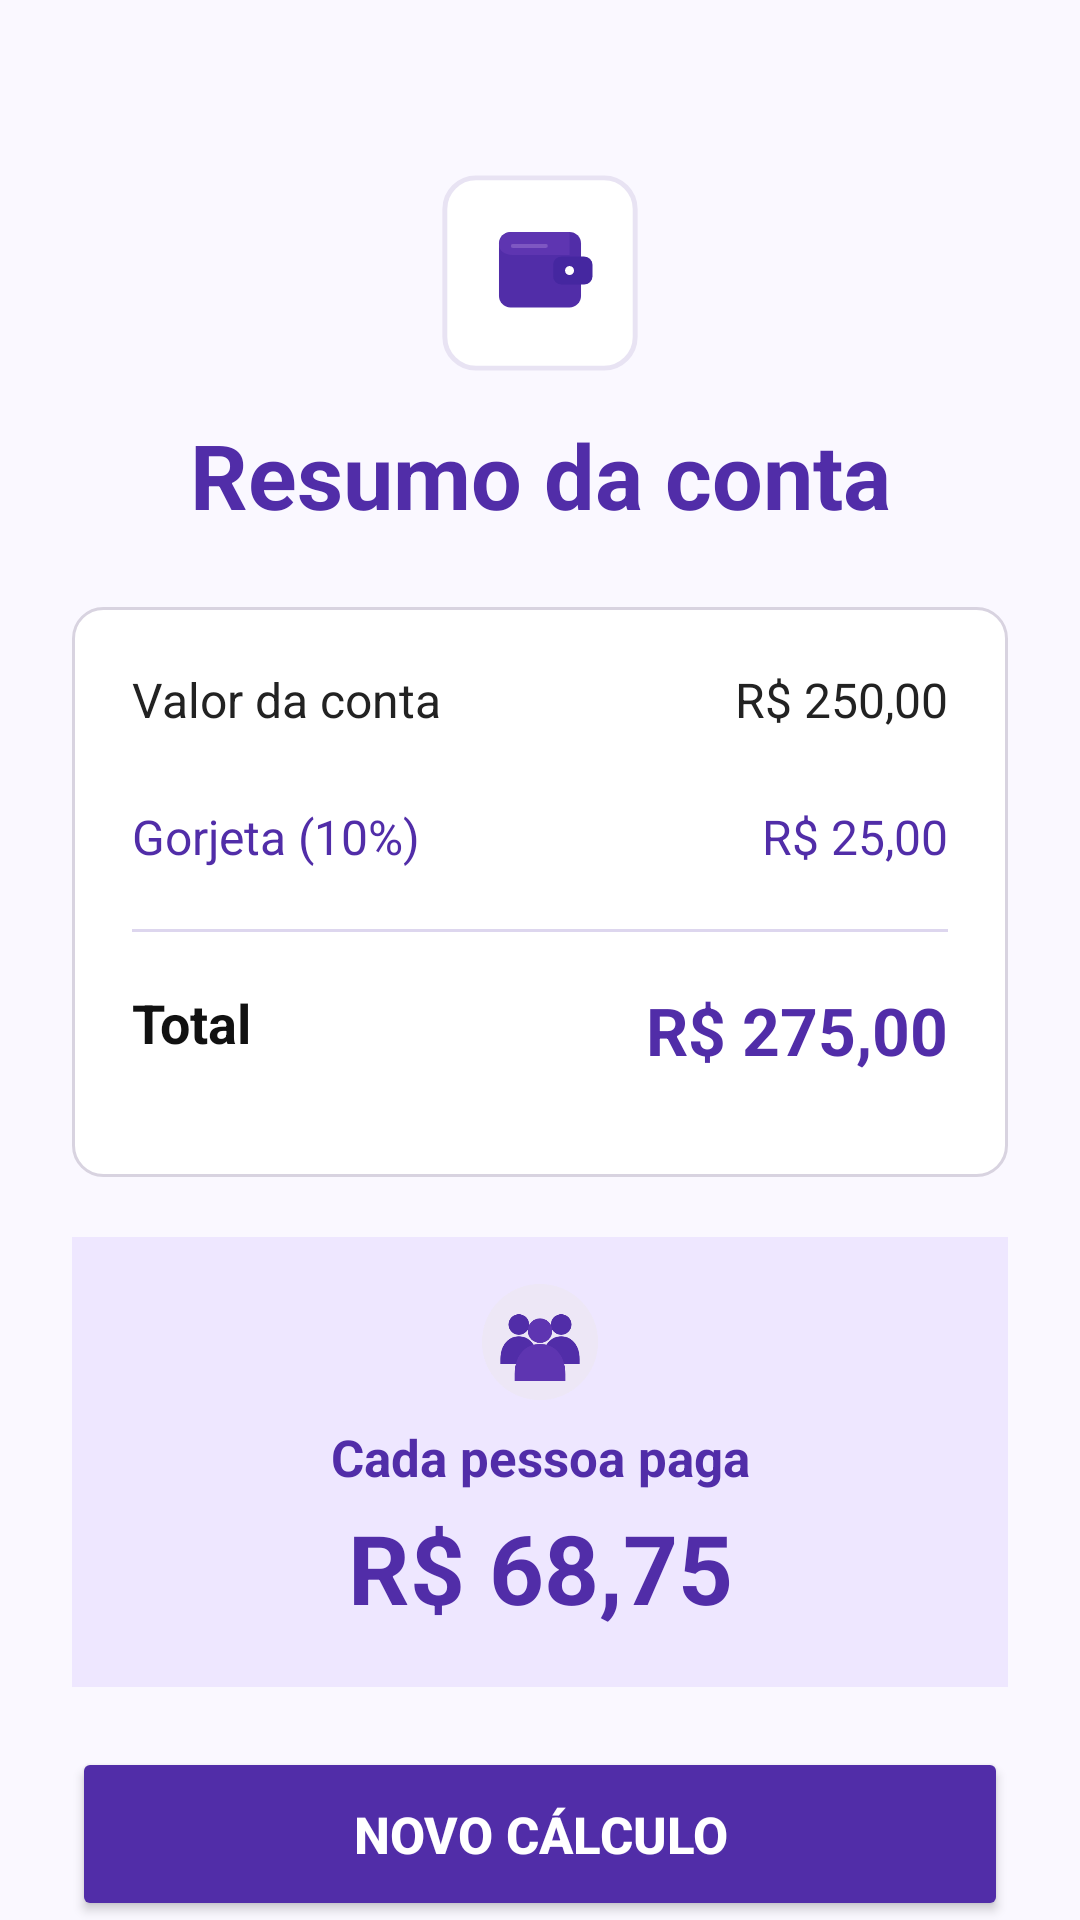

Locate icon controls on the screen. Image size 1080 × 1920, boxes as bbox=[x1, y1, x2, y2].
pessoas divide ai: bbox=[500, 1314, 580, 1381]
